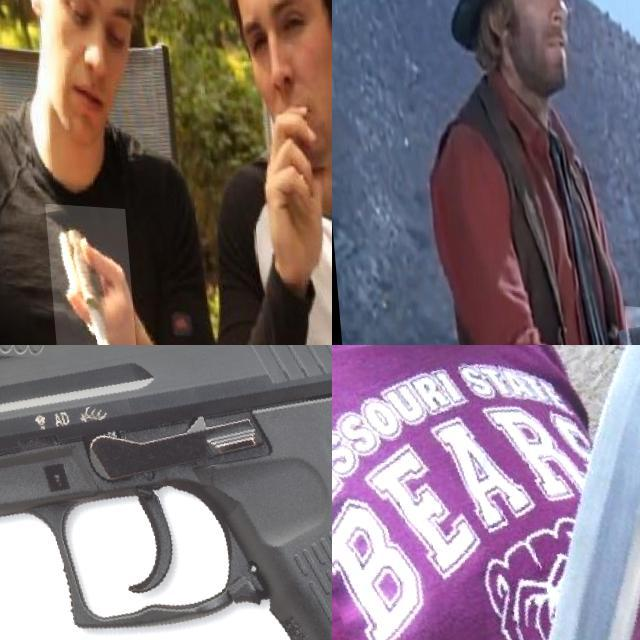-: (332, 345, 640, 640), (39, 201, 129, 345)
gun-knife-thesis - v11 Yolov5 augmented: (0, 345, 332, 640)
